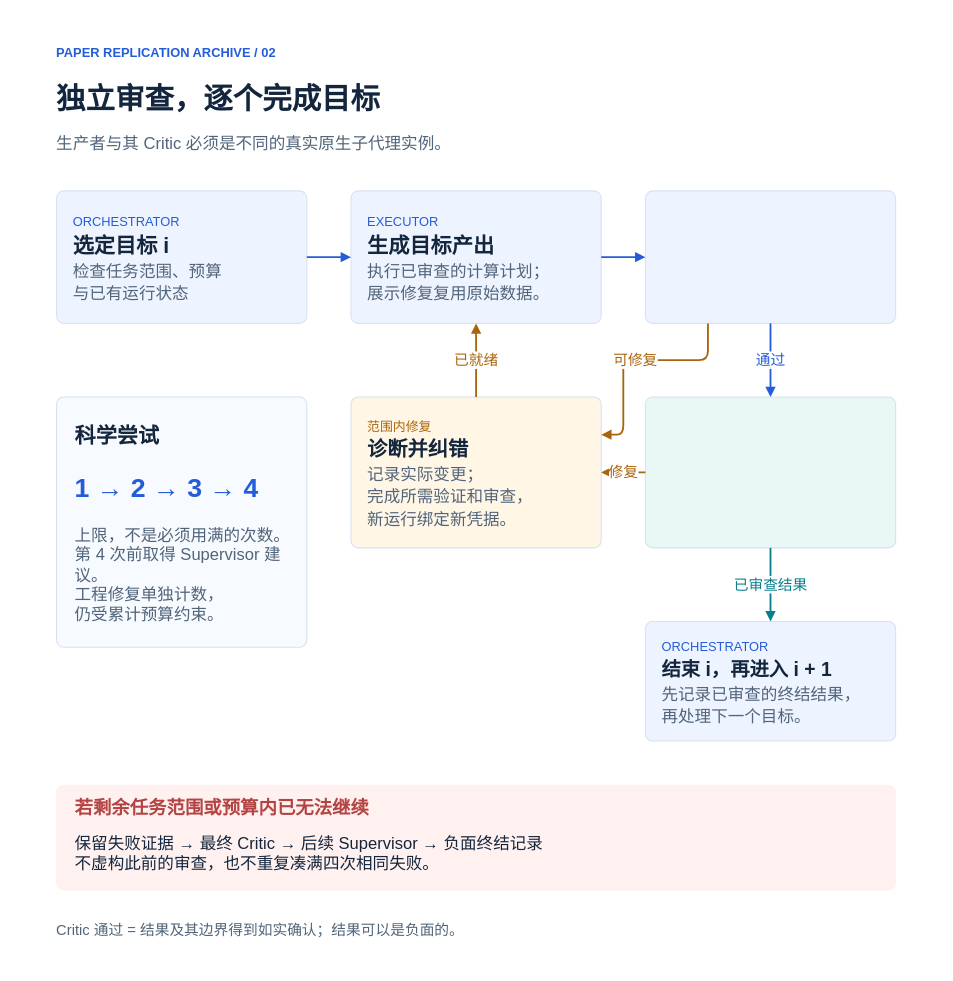
The diagram is 953 pixels wide and 981 high, and some of its shapes have lost their labels. Here are the shapes that lost their labels. From the top down, the centre of each, then its label:
the point at 770,256: ORCHESTRATOR / PREFLIGHT 确定性预检 核对结构、哈希 与声明的输出
the point at 770,472: INDEPENDENT CRITIC 独立检查证据 检查数值、对照 与结论的适用边界
